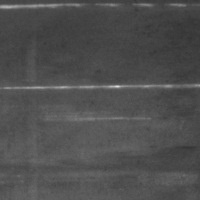scratches: (2, 79, 199, 94)
